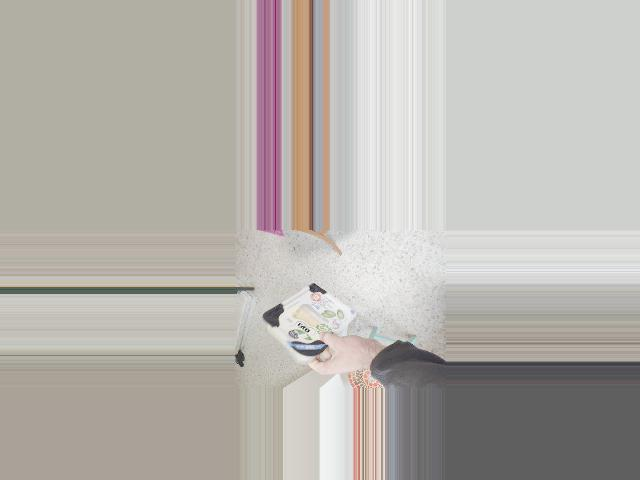cheese: (265, 274, 341, 380)
